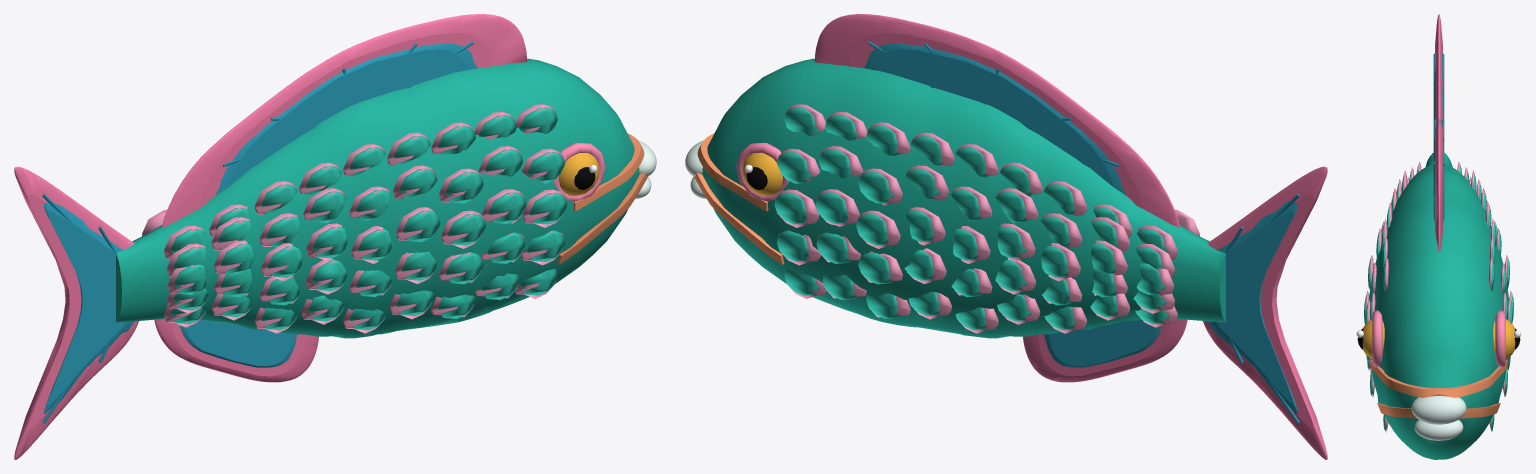
The model's file is parrotfish.glb.
The picture shows the model from 3 angles, left to right: view 1: azimuth 30°, elevation 25°; view 2: azimuth 150°, elevation 25°; view 3: azimuth 270°, elevation 25°; orthographic projection. The views are drawn at different scales.
Visible parts, largest first — view 1: Body, Scales, FinEdges, Fins, ScaleRims, FaceStripes, Irises, EyeRims, FinRays; view 2: Body, Scales, FinEdges, Fins, ScaleRims, FaceStripes, Irises, EyeRims, FinRays; view 3: Body, FaceStripes, ScaleRims, Beak, Scales, FinEdges, EyeRims, Irises, Fins, FinRays.
Part boxes in pixels (x1,y1,x2,y2): Body: (116,58,639,338); Scales: (170,107,567,330); FinEdges: (14,14,527,459); Fins: (44,43,477,413); ScaleRims: (142,104,565,333); FaceStripes: (557,133,648,264); Irises: (559,153,599,195); EyeRims: (553,142,605,201); FinRays: (42,41,473,423); Body: (702,58,1225,338); Scales: (774,107,1169,330); FinEdges: (814,14,1327,459); Fins: (864,43,1297,413); ScaleRims: (776,104,1199,333); FaceStripes: (693,133,784,264); Irises: (742,153,782,195); EyeRims: (736,142,788,201); FinRays: (868,41,1299,423); Body: (1369,153,1508,459); FaceStripes: (1370,360,1507,418); ScaleRims: (1365,161,1512,432); Beak: (1411,396,1466,440); Scales: (1364,166,1513,431); FinEdges: (1435,14,1442,253); EyeRims: (1372,310,1505,367); Irises: (1362,319,1515,359); Fins: (1433,66,1444,222); FinRays: (1433,53,1444,199).
Bounding box in the file's own units: 0.1232 × 0.0624 × 0.0311.
